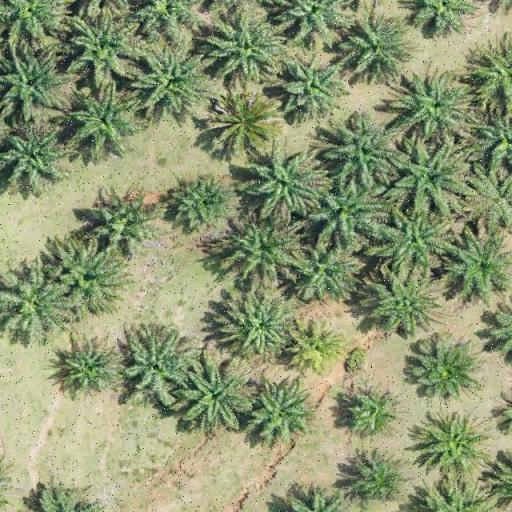Ganoderma: (290, 324, 338, 366)
